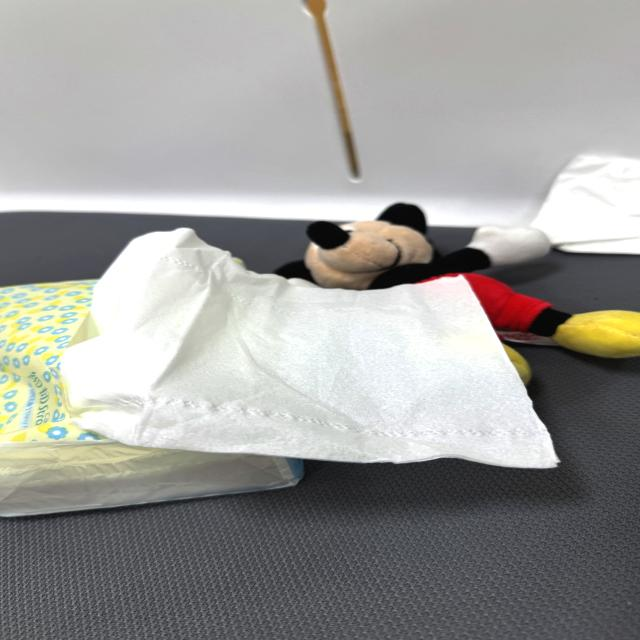mickey: (277, 204, 639, 357)
tissue: (62, 229, 558, 467), (532, 155, 639, 254)
